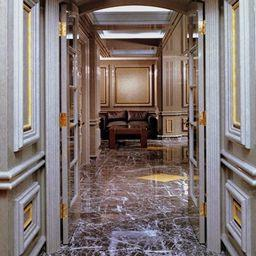Puerta: (52, 5, 81, 240), (184, 16, 206, 241)
